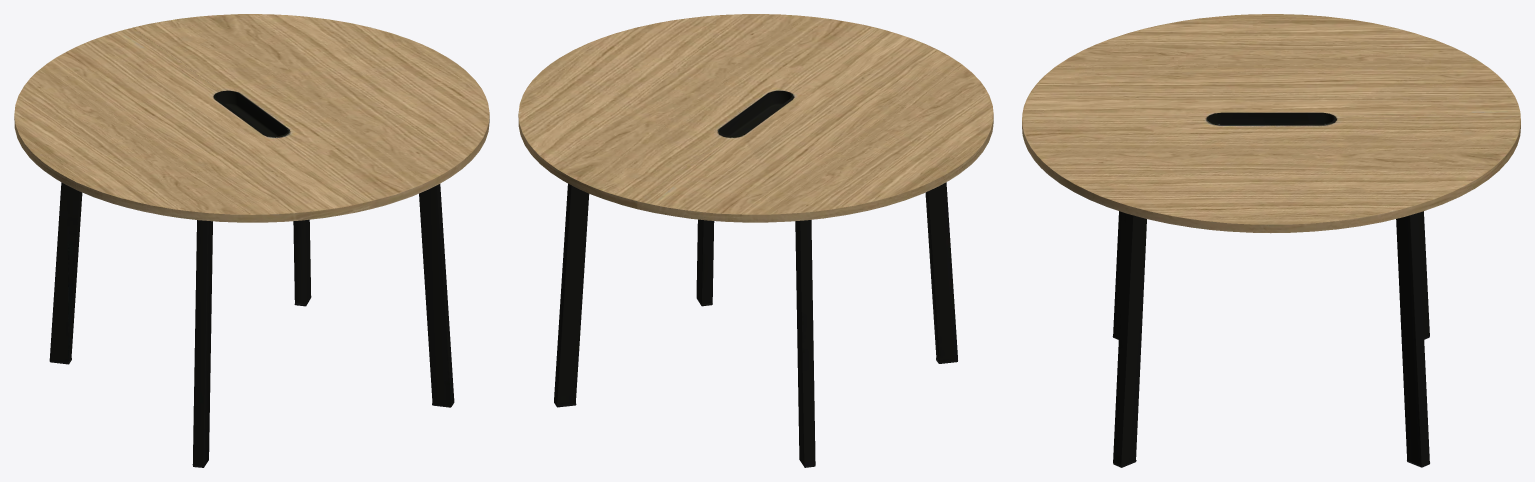
File: 113 - MITTZON - 會議桌, 圓形 實木貼皮, 橡木黑色, 120x75 公分 IKEA 線上購物.glb
The picture shows the model from 3 angles, left to right: view 1: azimuth 30°, elevation 25°; view 2: azimuth 150°, elevation 25°; view 3: azimuth 270°, elevation 25°; orthographic projection. The views are drawn at different scales.
Parts seen in each view (by area): view 1: Mesh_0; view 2: Mesh_0; view 3: Mesh_0.
Part boxes in pixels (x1=…): Mesh_0: x1=14, y1=14, x2=489, y2=467; Mesh_0: x1=518, y1=14, x2=993, y2=467; Mesh_0: x1=1022, y1=14, x2=1520, y2=467.
Size of the model in its own units: 1.2 by 0.75 by 1.2.
1 material, 1 textured.
